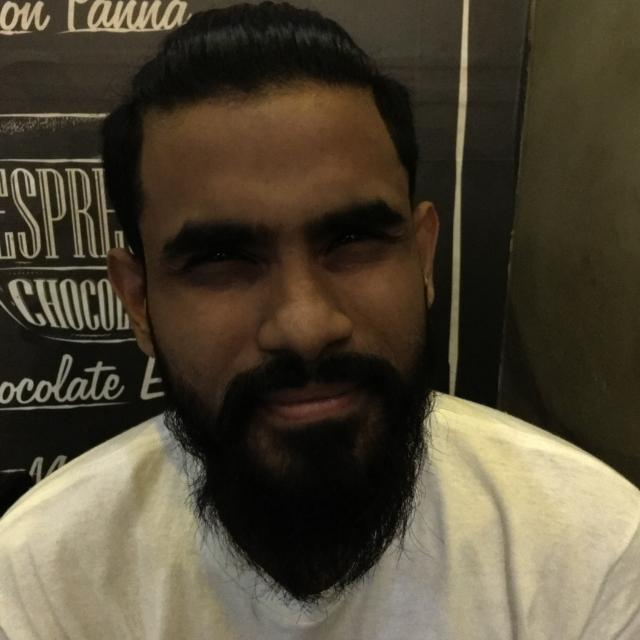Sad: (92, 105, 510, 537)
